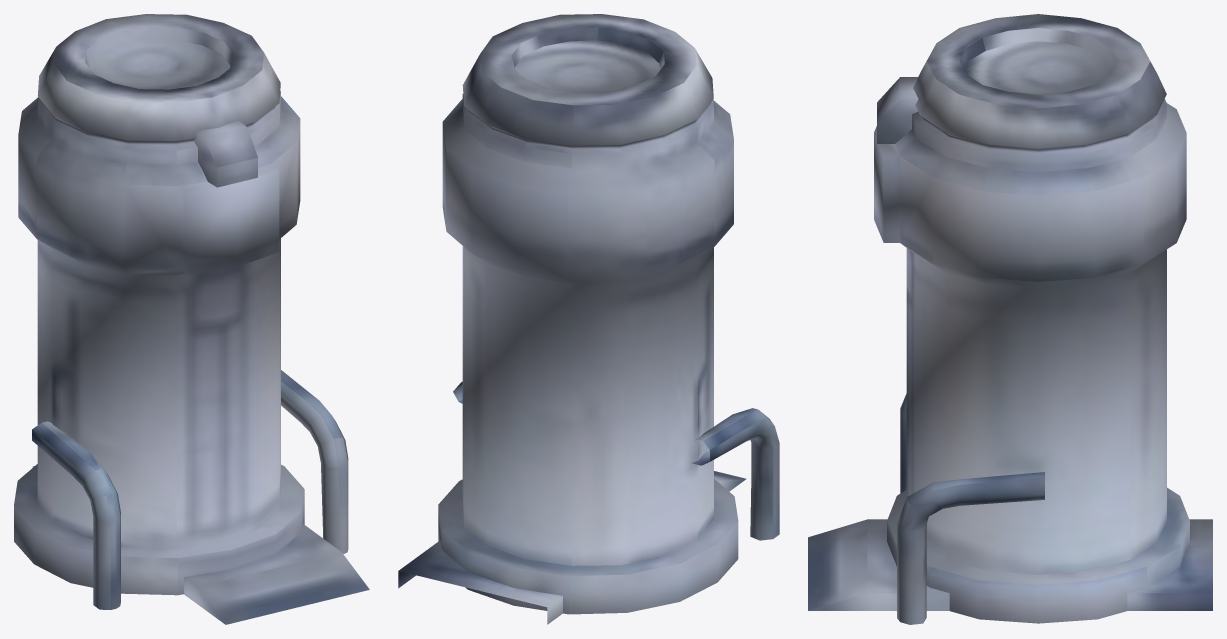
The model's file is 整備庫_21_圓頂儲槽.glb.
3 views of the same model, side by side, from view 1: azimuth 30°, elevation 25°; view 2: azimuth 150°, elevation 25°; view 3: azimuth 270°, elevation 25° (orthographic). The views are drawn at different scales.
Visible parts, largest first — view 1: 21_圓頂儲槽; view 2: 21_圓頂儲槽; view 3: 21_圓頂儲槽.
Boxes of the visible parts, x1,y1,x2,y2 form: 21_圓頂儲槽: (14, 14, 369, 624); 21_圓頂儲槽: (398, 14, 779, 624); 21_圓頂儲槽: (808, 14, 1212, 624).
Size of the model in its own units: 0.0454 by 0.0815 by 0.0601.
1 material, 1 textured.
